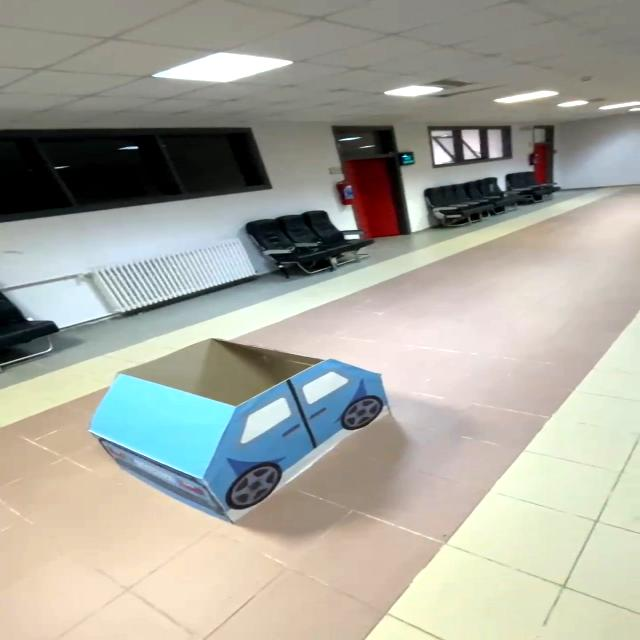blue_car: (75, 322, 441, 542)
